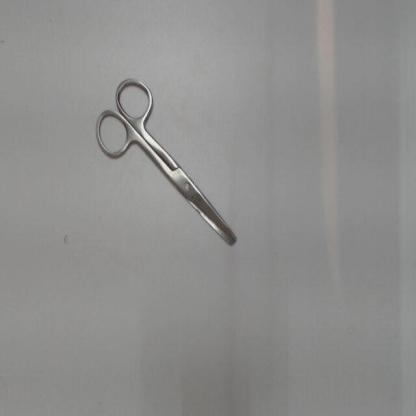Dressing Scissors: (84, 62, 246, 261)
